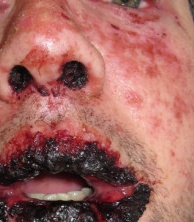SJS-TEN: (0, 120, 165, 222), (2, 53, 101, 106)
